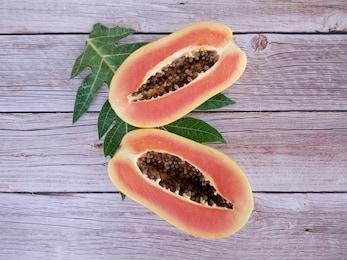papaya: (110, 128, 253, 237), (110, 25, 248, 124)
